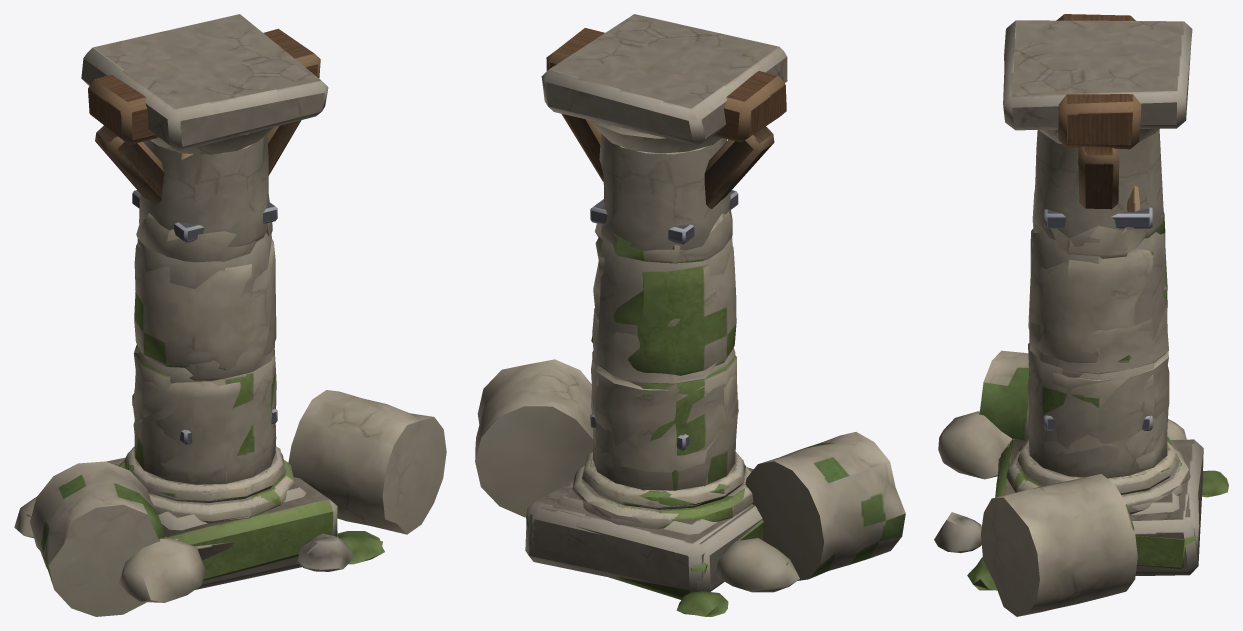
File: env-columns.glb
3 renders of one model, left to right at view 1: azimuth 30°, elevation 25°; view 2: azimuth 150°, elevation 25°; view 3: azimuth 270°, elevation 25°, orthographic.
Visible parts, largest first — view 1: column-moss, column-intact, column-broken, column-wood; view 2: column-intact, column-moss, column-broken, column-wood; view 3: column-broken, column-intact, column-moss, column-wood.
Boxes of the visible parts, box(x1,y1,x2,y2) form: column-moss: box(30, 213, 384, 616); column-intact: box(81, 14, 328, 526); column-broken: box(14, 328, 446, 602); column-wood: box(88, 28, 320, 530); column-intact: box(532, 14, 787, 591); column-moss: box(526, 209, 905, 616); column-broken: box(475, 308, 799, 592); column-wood: box(546, 28, 786, 534); column-broken: box(934, 299, 1203, 616); column-intact: box(1003, 20, 1199, 553); column-moss: box(967, 192, 1228, 590); column-wood: box(1018, 14, 1179, 515).
Bounding box in the file's own units: 1.44 × 1.63 × 0.8987.
Materials: 1 (1 with a texture image).
